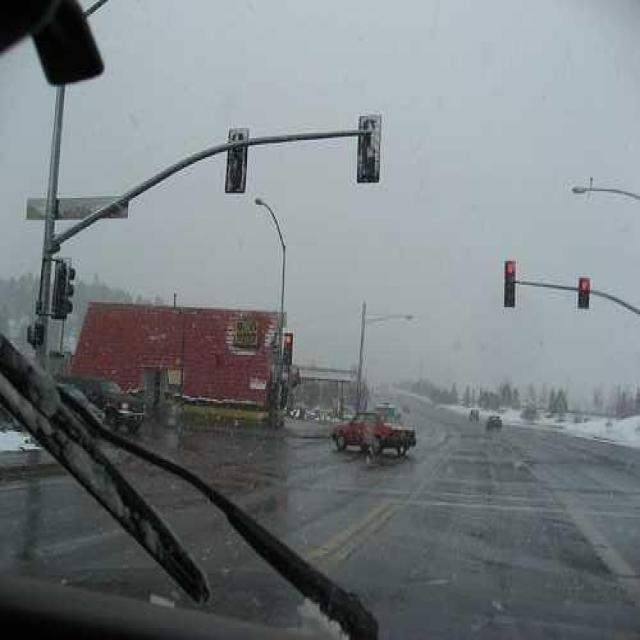Traffic Light -Red-: (503, 258, 516, 307), (576, 274, 590, 310), (283, 333, 293, 367)
